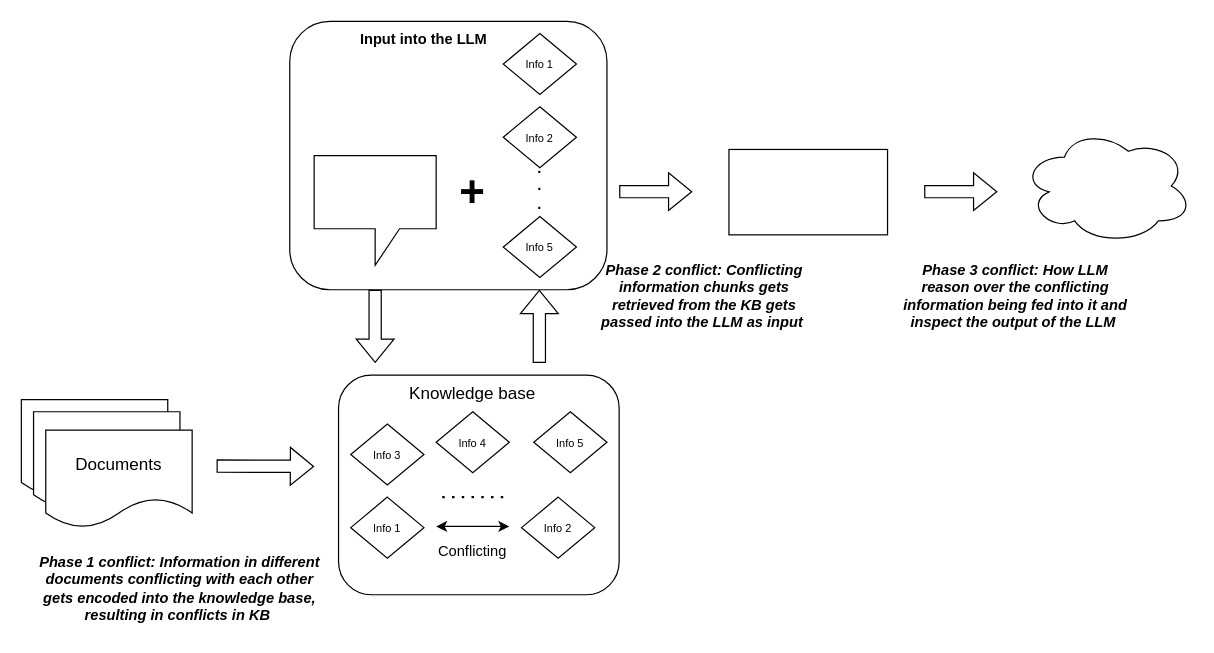
Image size: 1214x653. Some labels were removed from this diagram. Each missing label, with the centre of its shape:
LLM: the point at 808,191
Output from LLM: the point at 1107,185
User Query: the point at 374,209
